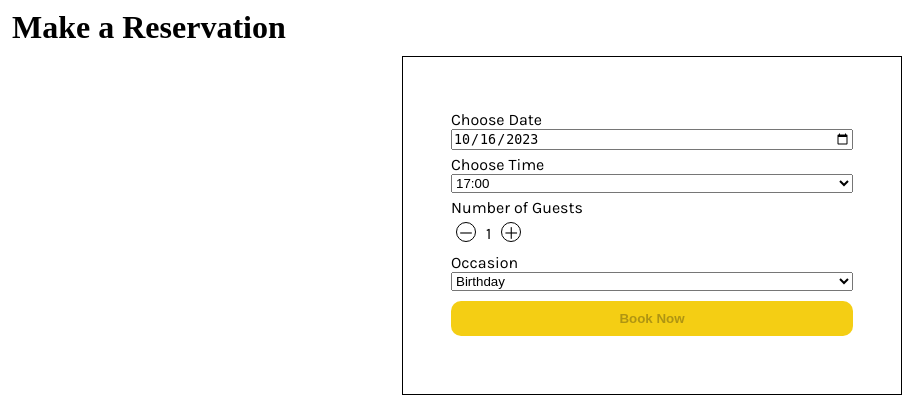
Test: submit button is disabled untl form is complete
The image size is (919, 412).
Expected: the button "Book Now" is disabled, [451,301,853,336]
Type "2023-03-17" into the date field labelled "Choose Date" at (652, 140), box [451,129,853,150]
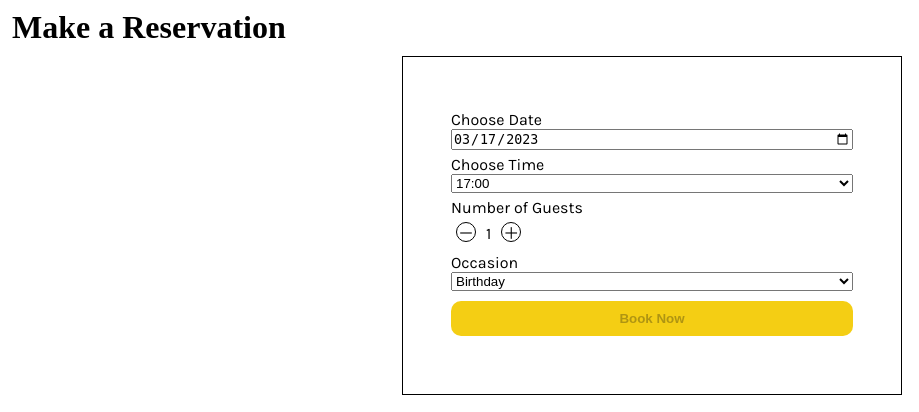
Expected: the button "Book Now" is disabled, [451,301,853,336]
Select "22:00" in the dropdown labelled "Choose Time" at (652, 184), box [451,174,853,193]
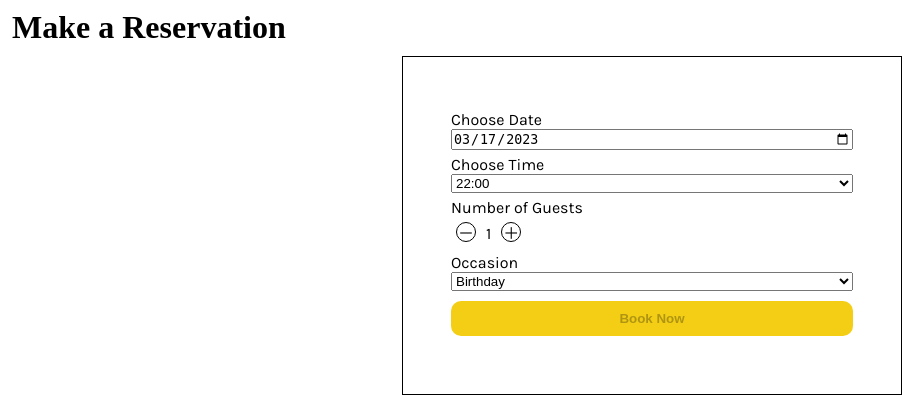
Expected: the button "Book Now" is disabled, [451,301,853,336]
Select "Birthday" in the dropdown labelled "Occasion" at (652, 282), box [451,272,853,291]
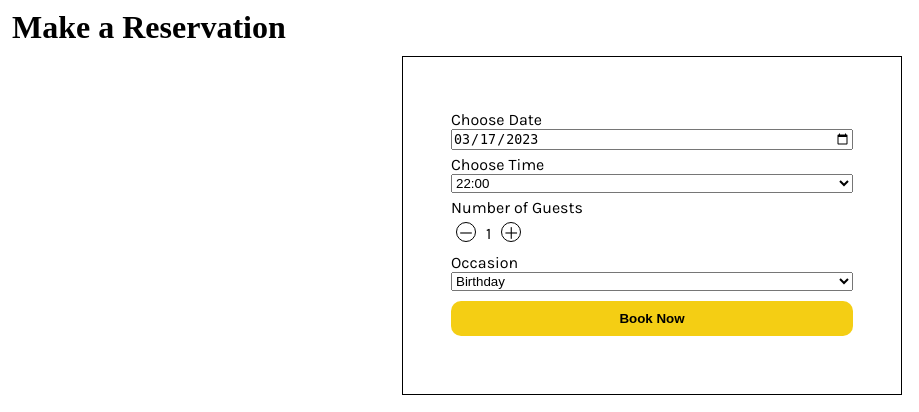
Expected: the button "Book Now" is enabled, [451,301,853,336]
